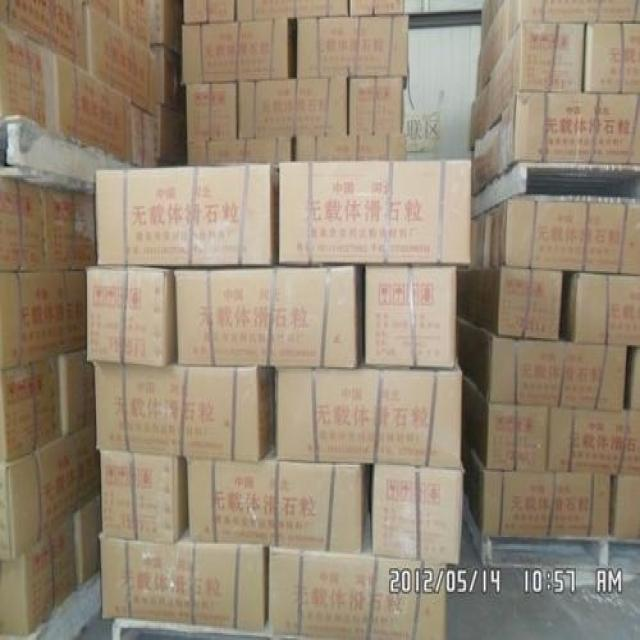box: (270, 508, 447, 640), (187, 441, 370, 554), (279, 160, 472, 264), (274, 362, 462, 468), (174, 264, 362, 369), (96, 163, 279, 266), (95, 357, 274, 460), (462, 372, 640, 474), (472, 89, 640, 197), (99, 527, 270, 633), (457, 316, 627, 410), (462, 436, 611, 537), (0, 420, 101, 563), (472, 22, 586, 146), (492, 199, 640, 273), (54, 51, 145, 168), (364, 264, 457, 369), (370, 463, 463, 566), (86, 264, 177, 369), (0, 516, 77, 638), (0, 175, 97, 271), (0, 271, 87, 371), (99, 451, 188, 544), (457, 264, 562, 341), (296, 15, 408, 79), (182, 19, 292, 84), (83, 9, 151, 113), (0, 355, 63, 465), (237, 77, 348, 139), (0, 22, 59, 132), (567, 269, 640, 347), (508, 0, 639, 33), (582, 22, 640, 94), (83, 0, 151, 51), (59, 347, 95, 436), (348, 77, 403, 134), (186, 81, 238, 141), (476, 2, 509, 96), (293, 134, 407, 161), (187, 137, 293, 166), (141, 105, 187, 168), (73, 489, 101, 590), (148, 46, 186, 112), (236, 0, 349, 21), (609, 472, 640, 535), (151, 0, 183, 55), (472, 208, 494, 264), (481, 0, 507, 43), (348, 0, 404, 17), (625, 347, 640, 410), (206, 0, 236, 22), (183, 0, 207, 24)
